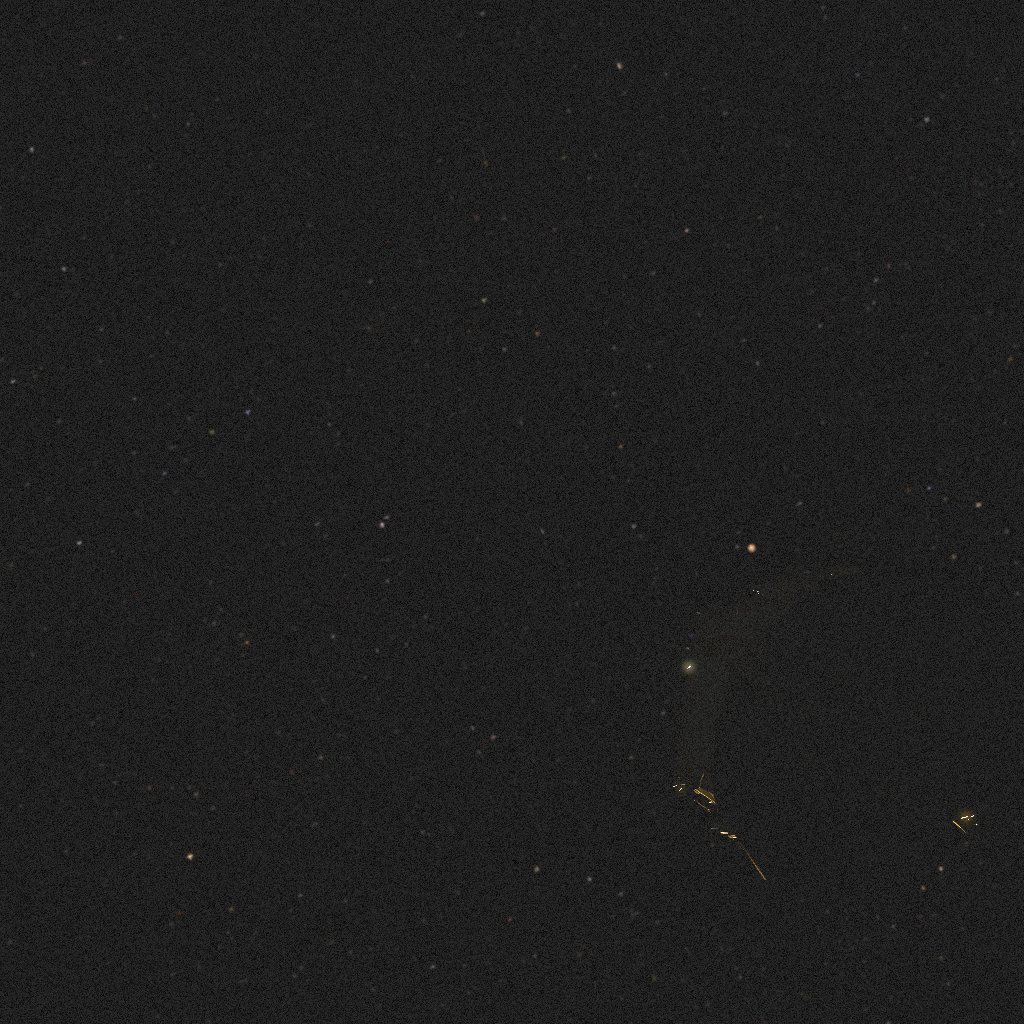lisa_pathfinder: (672, 564, 1015, 906)
